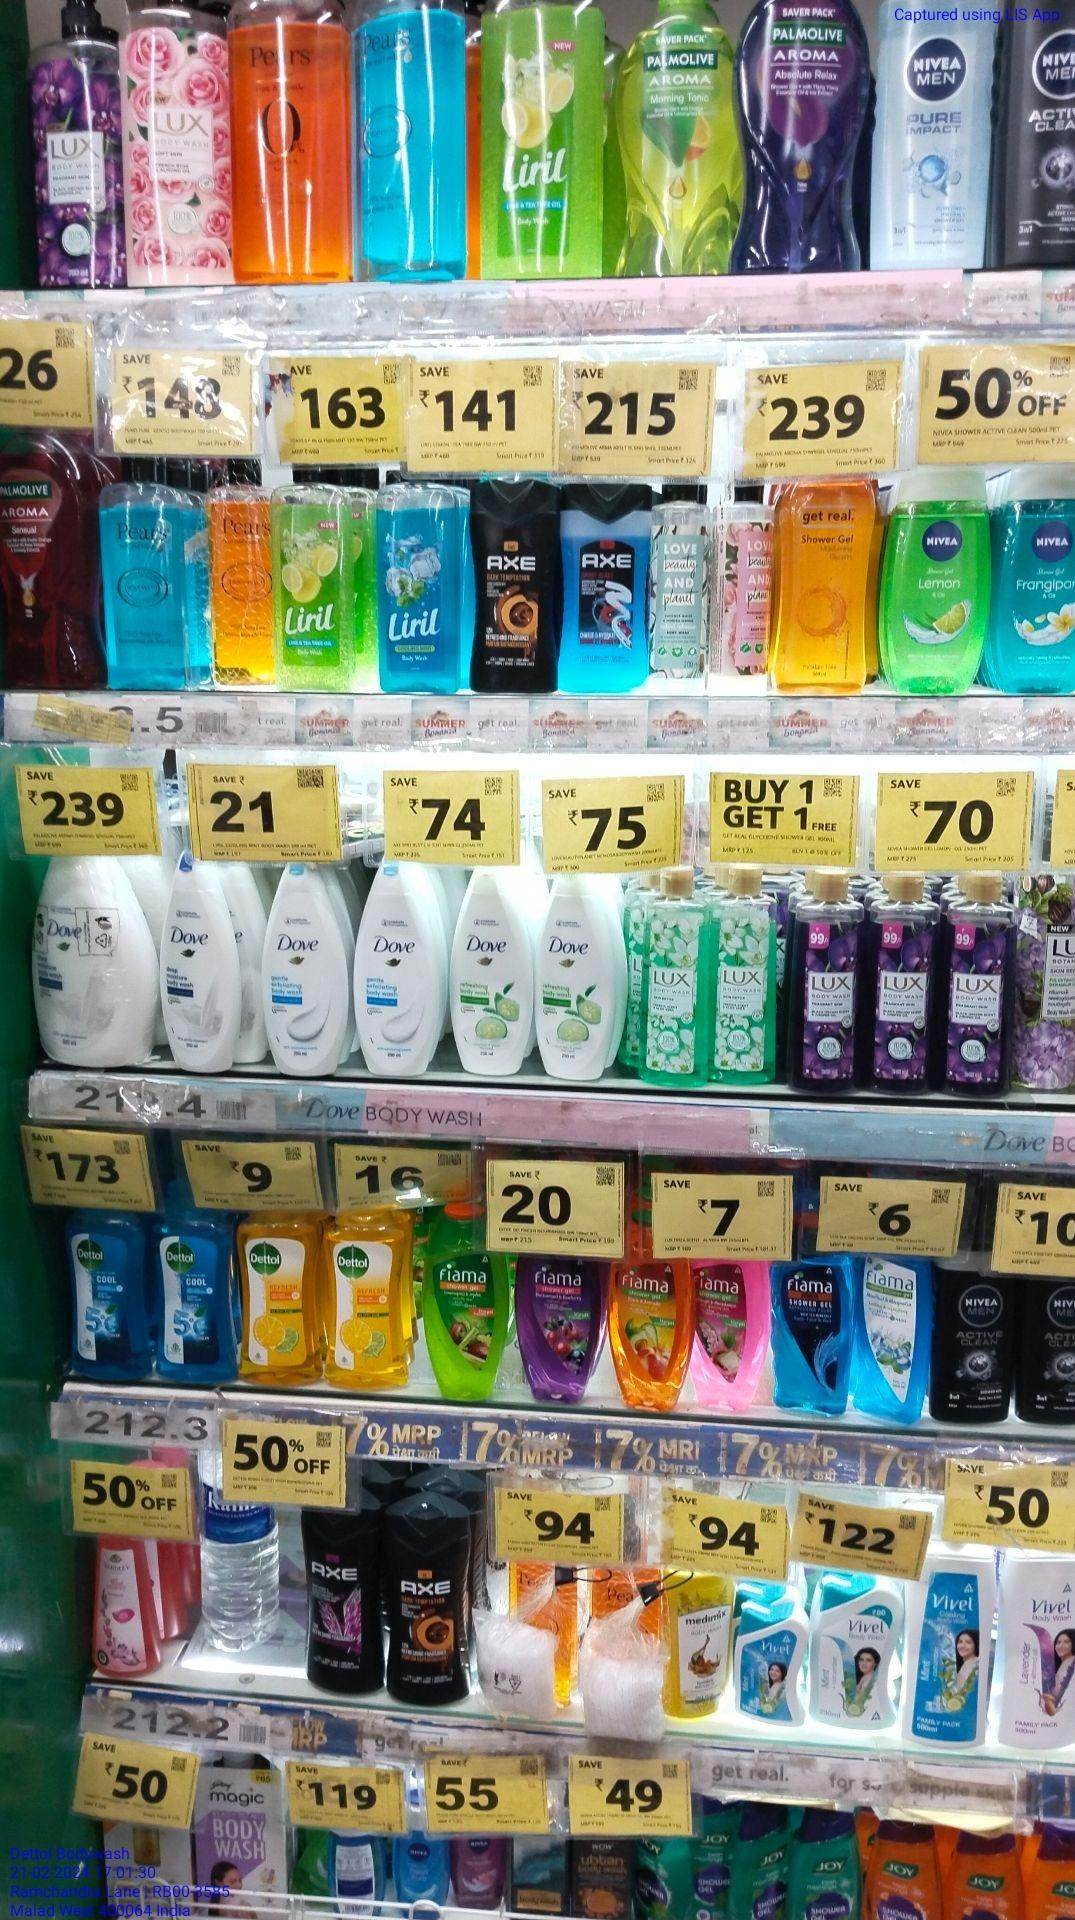Dettol_Bodywash_Cool: (63, 1213, 153, 1382), (153, 1218, 236, 1387)
Dettol_Bodywash_Refresh: (324, 1207, 410, 1387), (236, 1213, 322, 1390)
Dove_Deep_Moisture_Body_Wash_250ML: (158, 847, 240, 1069)
Dove_Gentle_Exfoliating_Body_Wash_250ML: (348, 865, 443, 1075), (264, 865, 343, 1075)
Dove_Refreshing_Body_Wash_250ML: (448, 864, 530, 1075), (537, 870, 617, 1080)
Fiama_Shower_Gel_Lemongrass_and_Jojoba_250ML: (419, 1205, 497, 1396)
Fiama_Shower_Gel_Peach_and_Avocado_250ML: (607, 1251, 696, 1410)
Get_Real_Shower_Gel_Moisturising_Glycerin_300ML: (770, 479, 880, 696)
Liril_Cooling_Mint_Body_Wash_250ML: (373, 469, 467, 694)
Liril_Lime_and_Tea_Tree_Oil_Body_Wash_250ML: (270, 467, 353, 692)
Lux_Black_Orchid_Scent_and_Juniper_Oil_Body_Wash_245ML: (940, 878, 1016, 1095), (791, 870, 860, 1092), (867, 877, 934, 1091)
Lux_Body_Wash_Skin_Detox_Freesia_Scent_and_Alove_Vera_245ML: (634, 870, 708, 1080), (712, 872, 777, 1087)
Nivea_Shower_Gel_Frangipani_and_Oil_250ML: (995, 462, 1075, 699)
Nivea_Shower_Gel_Lemon_and_Oil_250ML: (881, 475, 991, 688)
Pears_Pure_Glycerin_and_Mint_Extracts_Body_Wash_250ML: (99, 455, 198, 690)
